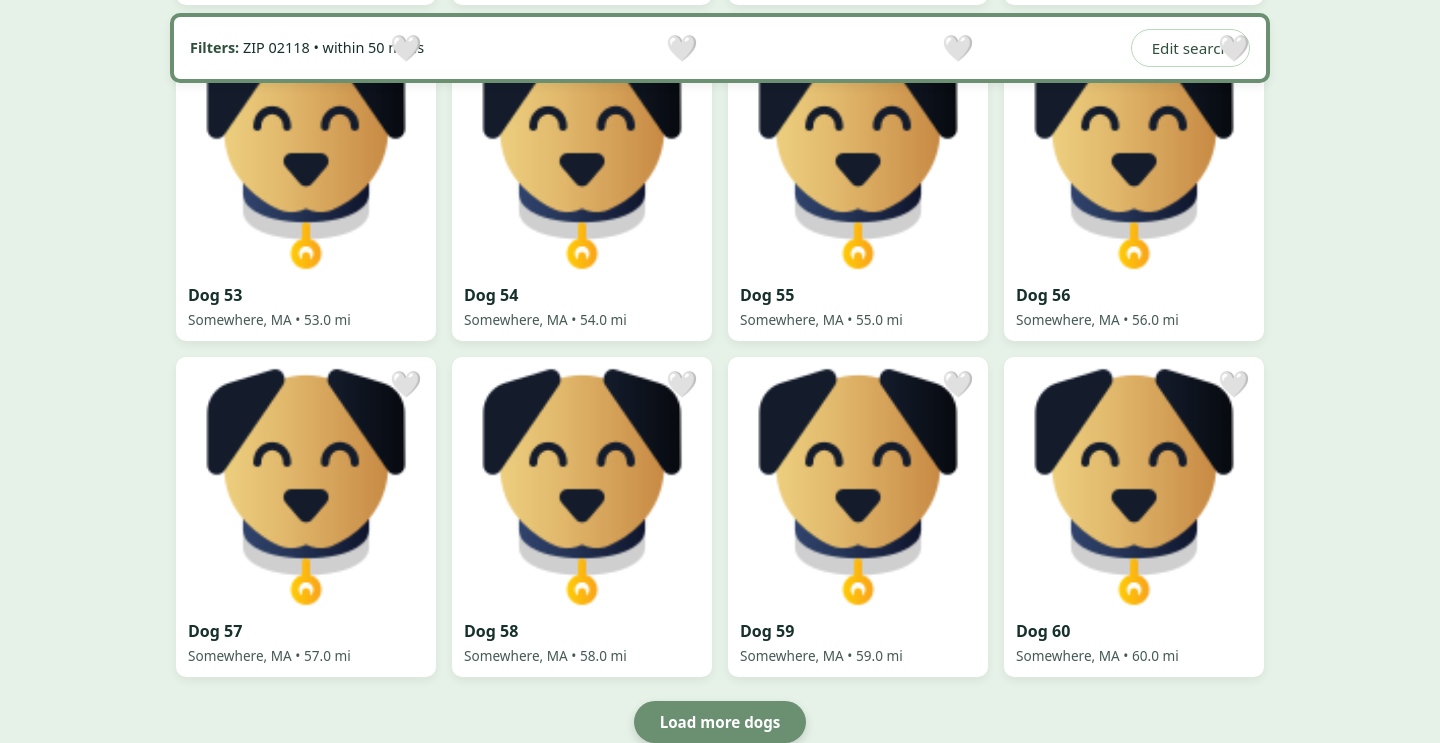
Test: SearchResults page › shows Load more button and reveals more dogs when clicked
(page scrolled)
Expected: the text "Dog 61" is not shown
Click the button "Load more dogs": (720, 722) [634,701,806,742]
(page scrolled)
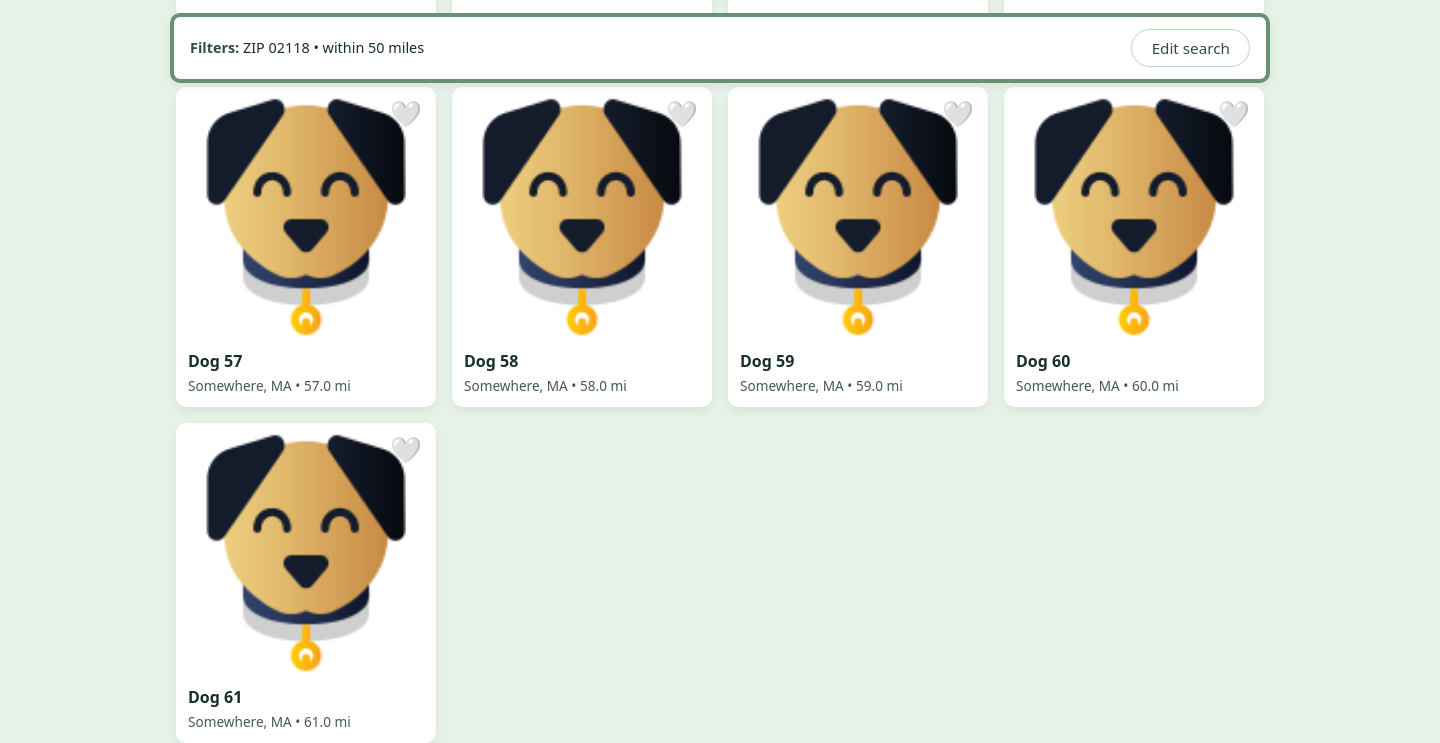
Expected: the heading "Dog 61" is shown, [188,686,242,708]
